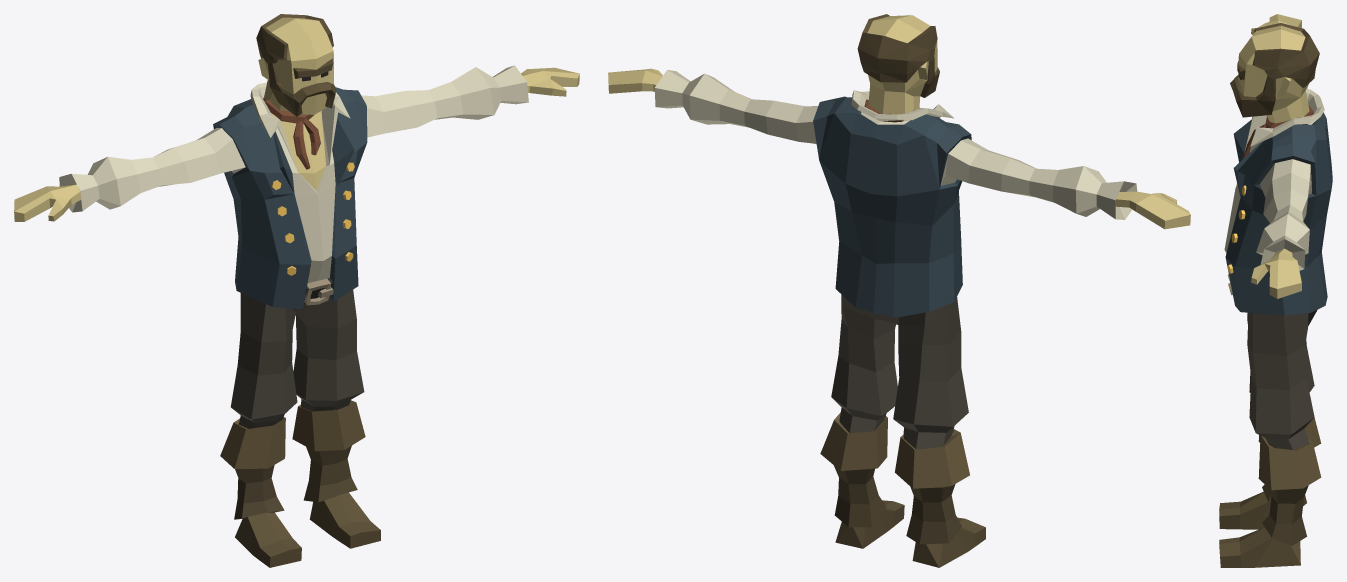
The model's file is Pirate_2.fbx.
3 views of the same model, side by side, from view 1: azimuth 30°, elevation 25°; view 2: azimuth 150°, elevation 25°; view 3: azimuth 270°, elevation 25° (orthographic). The views are drawn at different scales.
Visible parts, largest first — view 1: Pirate_2; view 2: Pirate_2; view 3: Pirate_2.
Part boxes in pixels (<box>): Pirate_2: <box>14,14,579,567</box>; Pirate_2: <box>608,14,1190,567</box>; Pirate_2: <box>1219,14,1332,567</box>.
Bounding box in the file's own units: 205 × 177 × 35.74.
